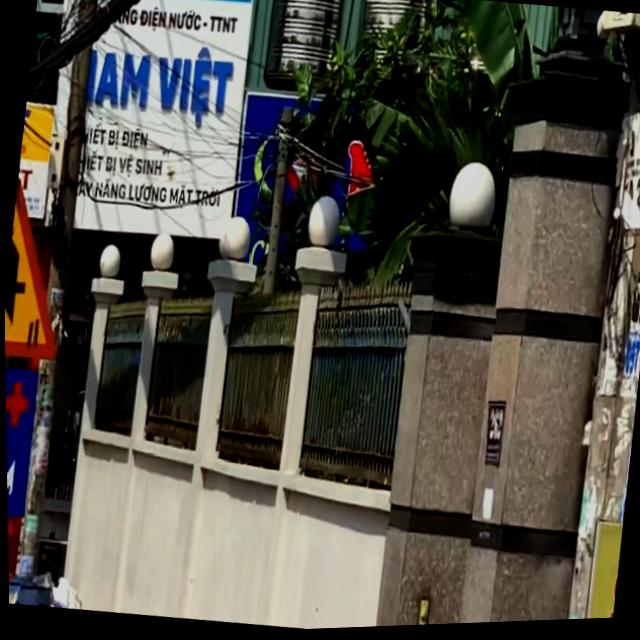Giao nhau voi duong khong uu tien ben phai: (2, 155, 80, 364)
